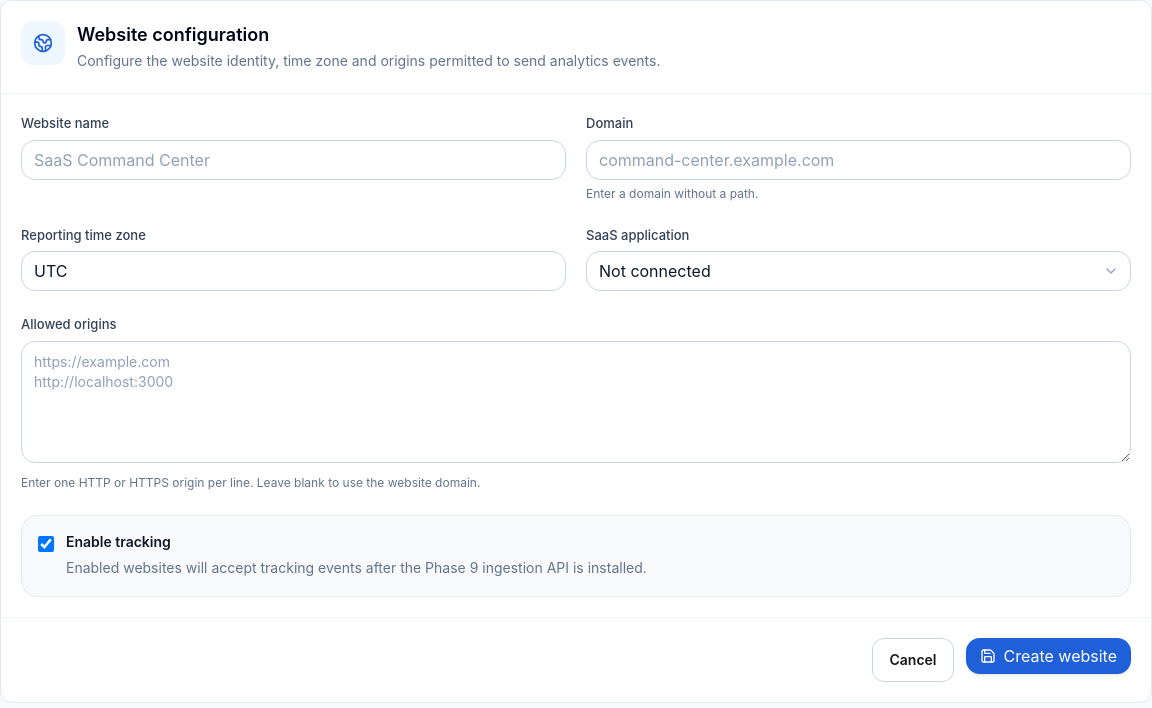
Test: WebsiteForm validation › blocks submission and shows an alert when the domain is blank
Type "My Site" into the field labelled "Website name" at {"x": 294, "y": 160}, box [21,140,566,180]
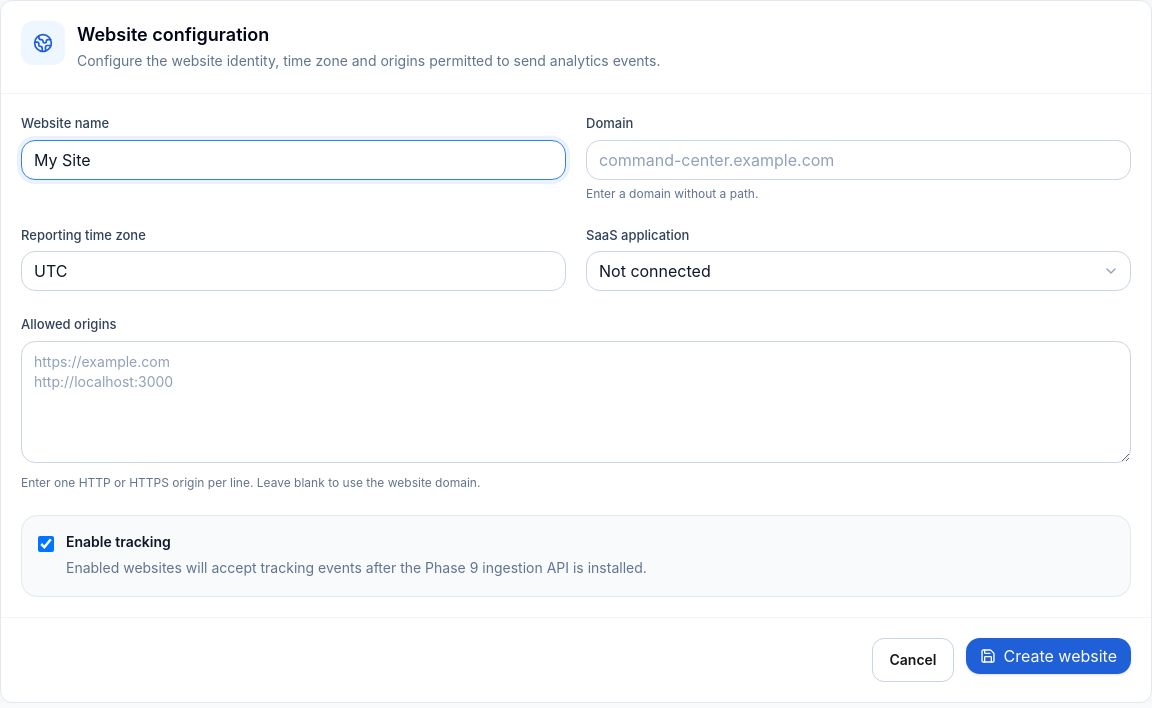
Click the button "Create website" at {"x": 1048, "y": 656}, box [966,638,1131,674]
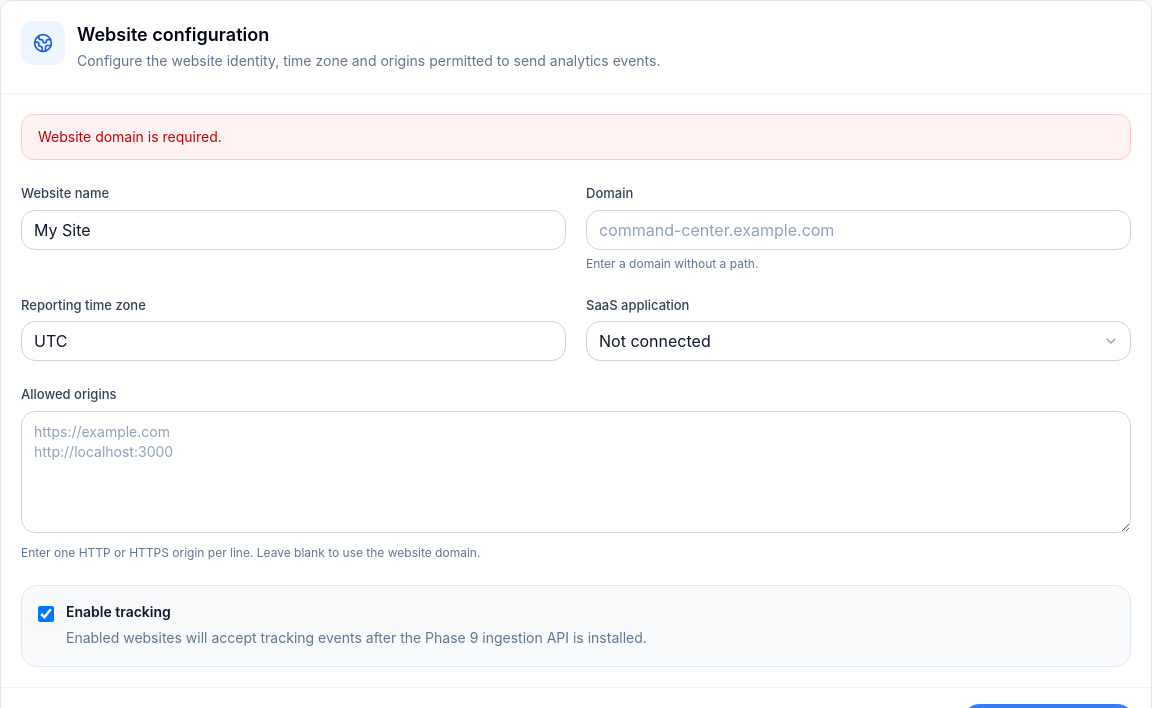
expect the message reads "Website domain is required.": met, box [38,128,222,145]
